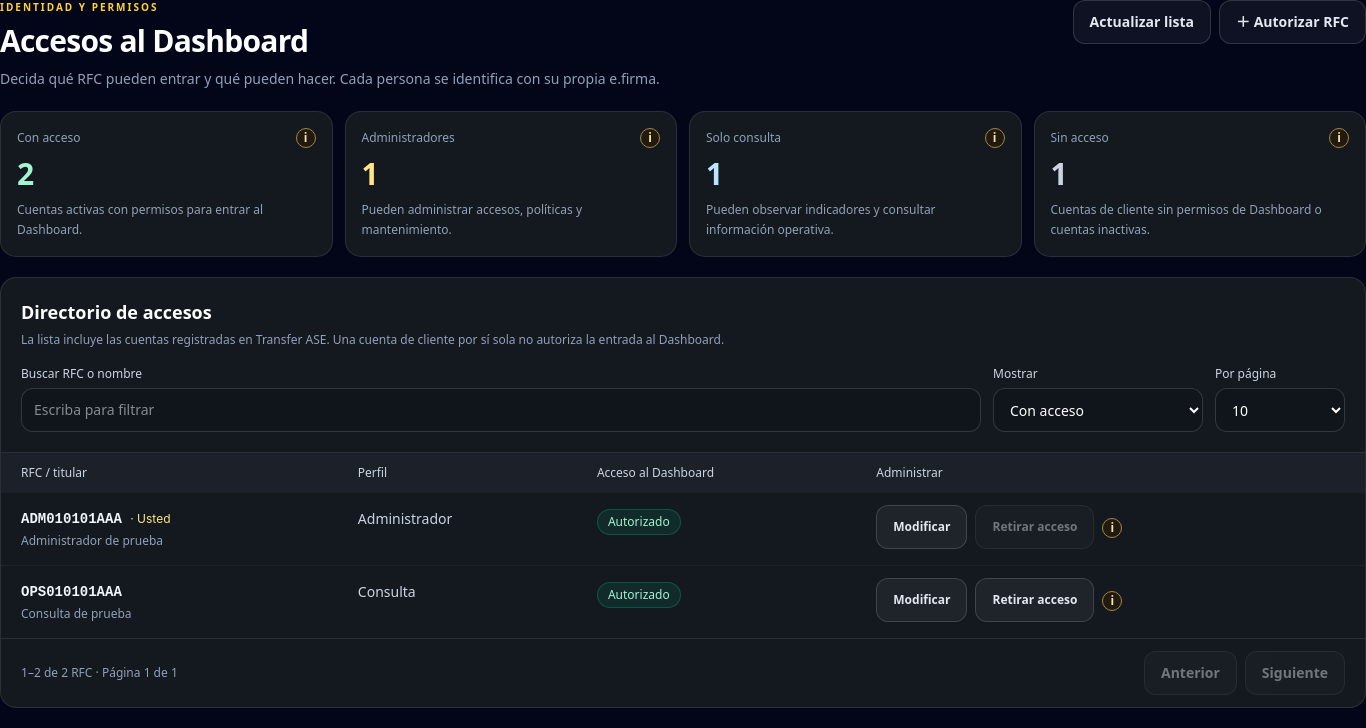
Test case: administración de accesos con e.firma › avisa si otro administrador cambió el registro durante la edición
Step 1. Click the button "Retirar acceso" in the row of "OPS010101AAA" → {"x": 1035, "y": 600}, box left=976, top=578, right=1094, bottom=622
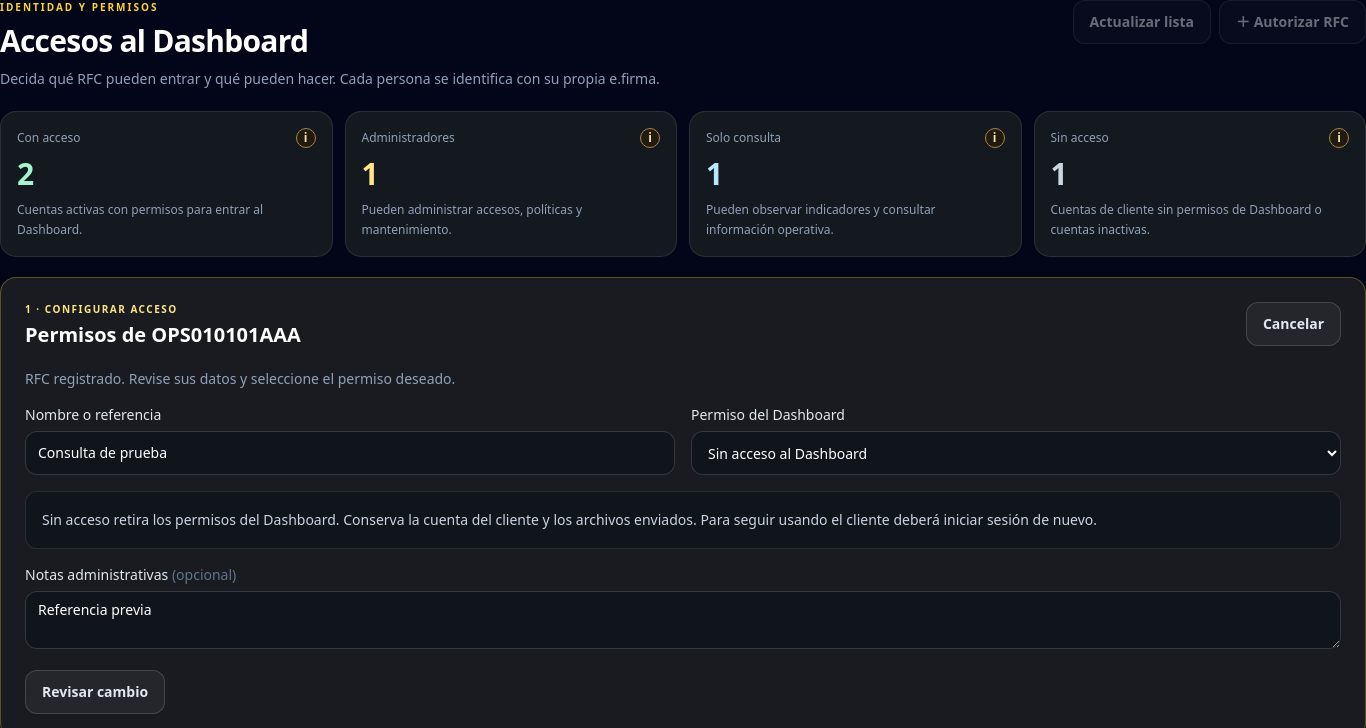
Step 2. Click the button "Revisar cambio" → {"x": 95, "y": 692}, box left=25, top=670, right=165, bottom=714
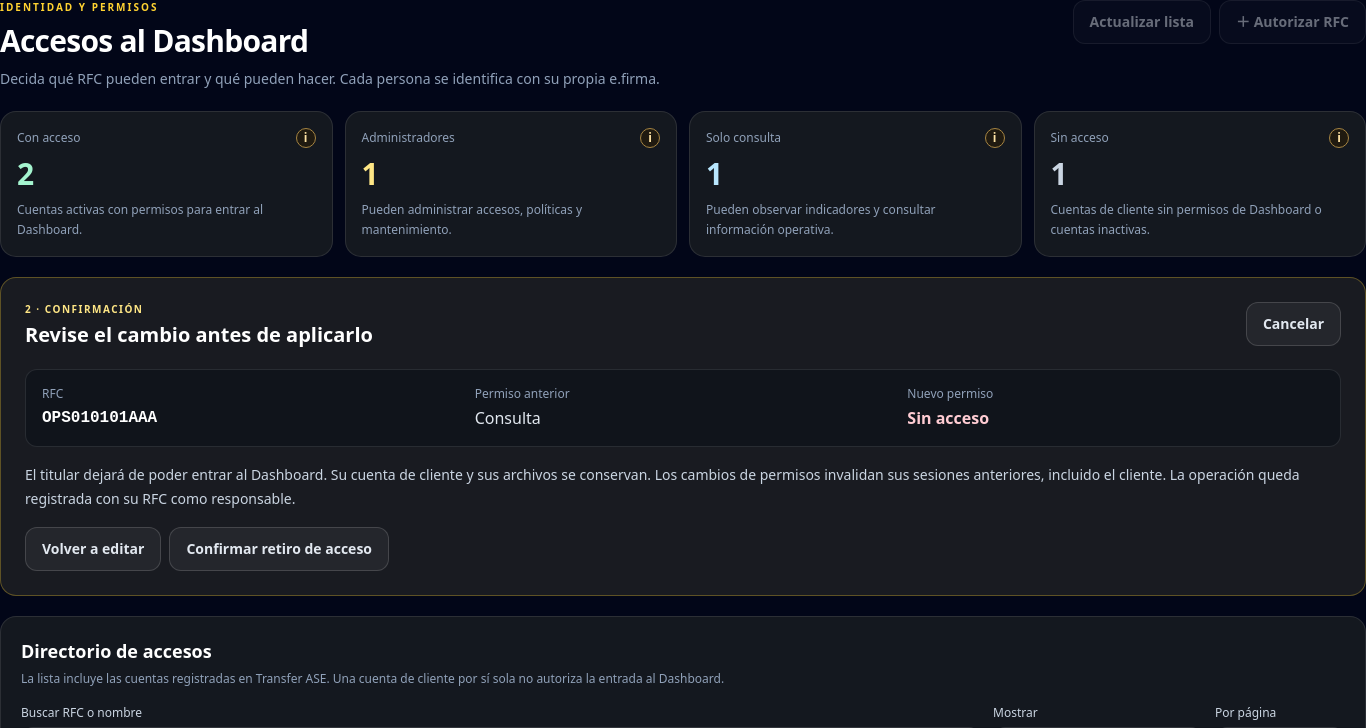
Step 3. Click the button "Confirmar retiro de acceso" → {"x": 279, "y": 549}, box left=169, top=527, right=389, bottom=571
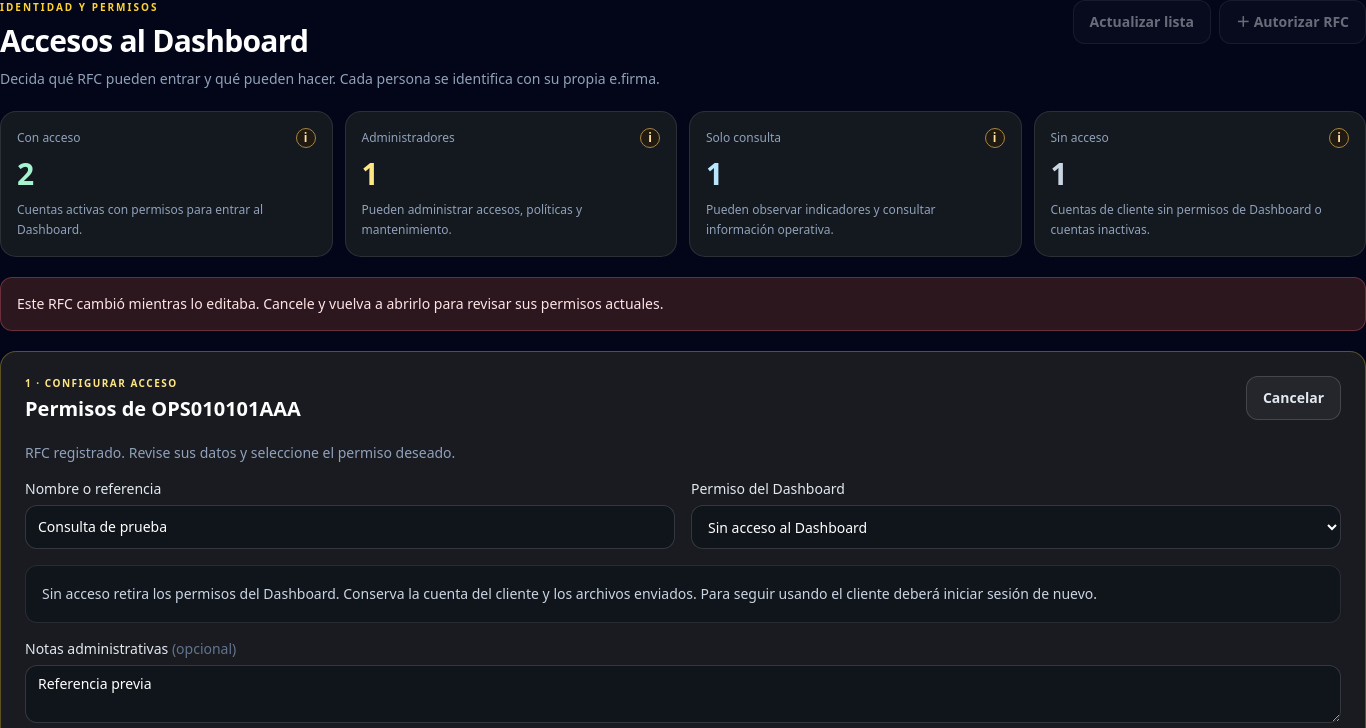
Expected: the text "cambió mientras lo editaba" is shown, left=17, top=294, right=663, bottom=313
